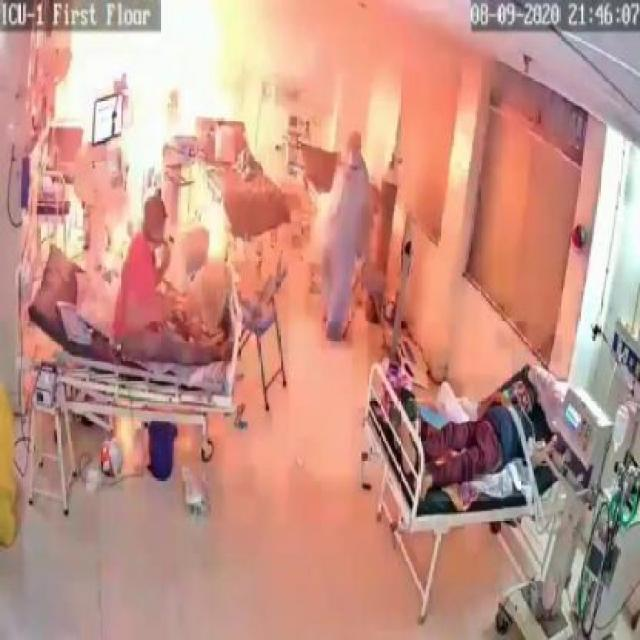fire: (164, 10, 227, 136)
